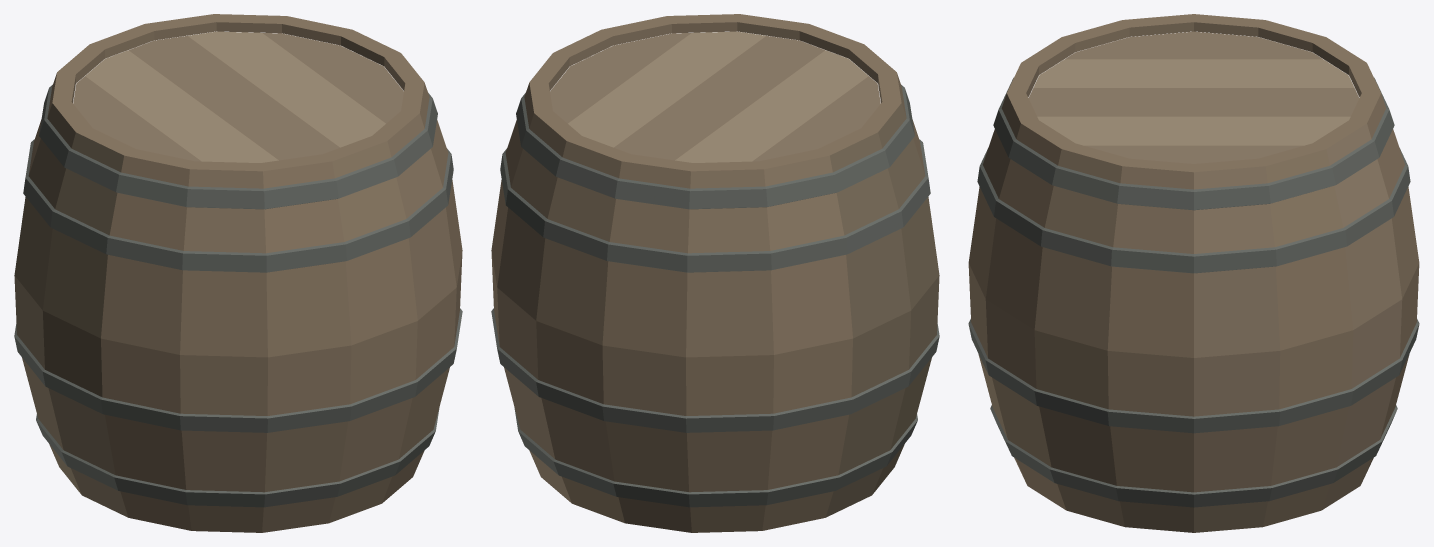
File: env_barrel_v12_squat.glb
3 renders of one model, left to right at view 1: azimuth 30°, elevation 25°; view 2: azimuth 150°, elevation 25°; view 3: azimuth 270°, elevation 25°, orthographic.
Visible parts, largest first — view 1: material_0, material_3, material_2, material_5, material_4; view 2: material_0, material_3, material_5, material_2, material_4; view 3: material_0, material_5, material_3, material_4.
Part boxes in pixels (left/top/right/bottom): material_0: left=29, top=14, right=462, bottom=532; material_3: left=14, top=84, right=462, bottom=507; material_2: left=14, top=103, right=128, bottom=517; material_5: left=73, top=33, right=403, bottom=161; material_4: left=85, top=31, right=385, bottom=162; material_0: left=491, top=14, right=924, bottom=532; material_3: left=491, top=84, right=939, bottom=507; material_5: left=497, top=33, right=880, bottom=503; material_2: left=825, top=103, right=939, bottom=517; material_4: left=568, top=31, right=868, bottom=162; material_0: left=968, top=14, right=1419, bottom=532; material_5: left=1028, top=31, right=1402, bottom=532; material_3: left=968, top=77, right=1419, bottom=507; material_4: left=1033, top=59, right=1354, bottom=145.
Bounding box in the file's own units: 0.7285 × 0.648 × 0.7285.
